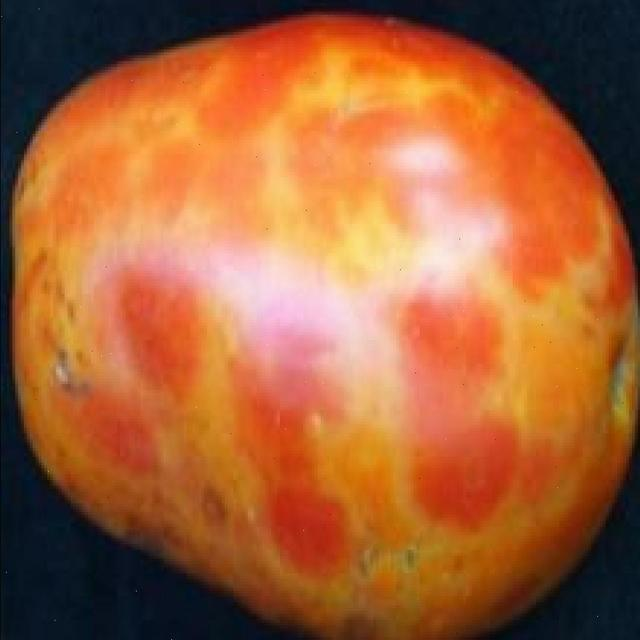Spotted wilt Virus Fruit: (6, 12, 427, 427)
